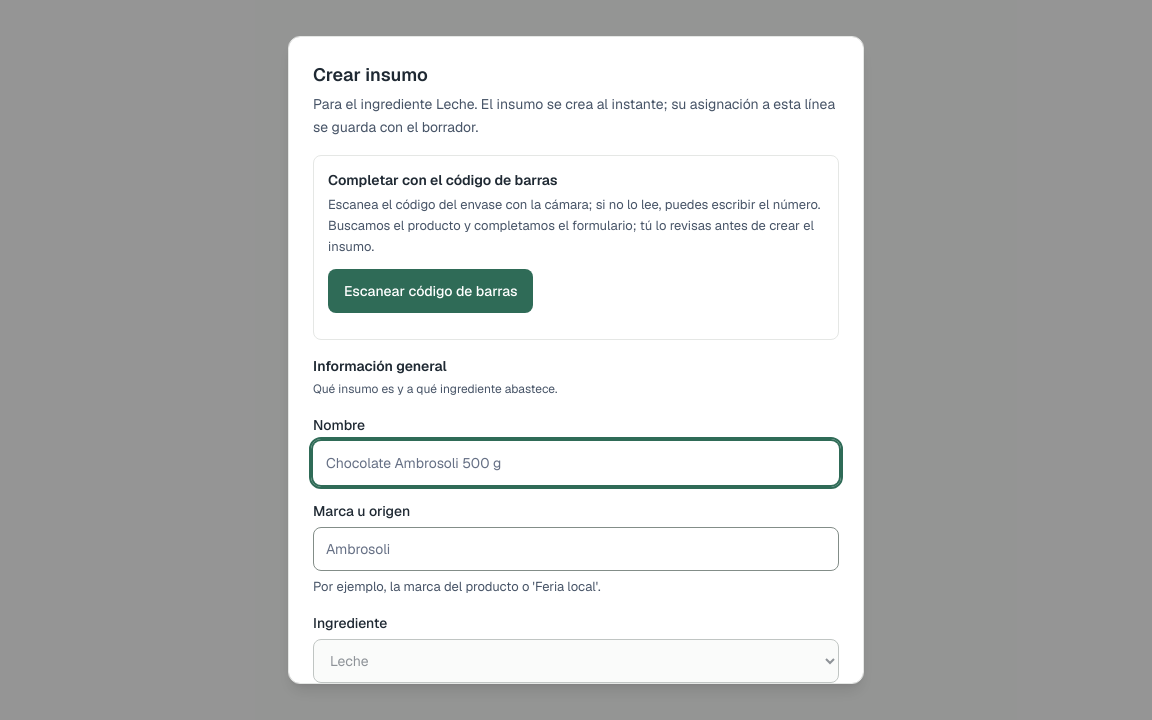
Bloque de búsqueda en el diálogo › no encontrado: conserva lo escrito, agrega el código y avisa
Type "Lo que yo escribí" into the field labelled "Nombre".
click(576, 463); type("Lo que yo escribí")  # box [313, 441, 839, 485]
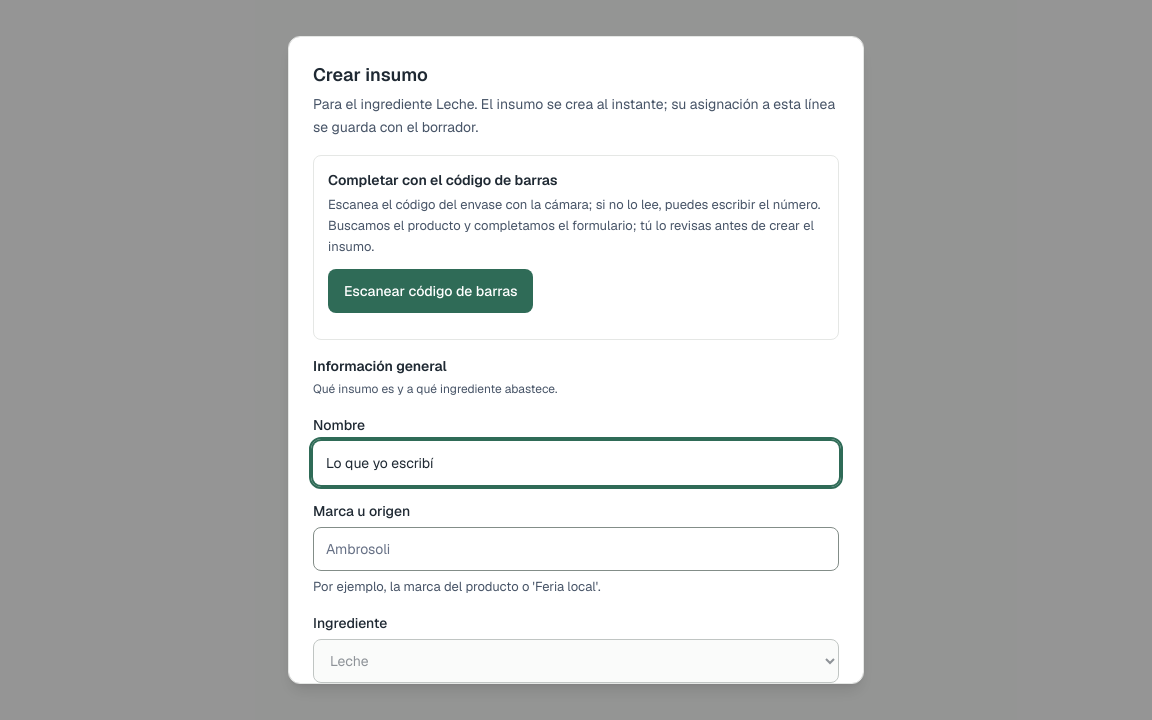
Click the button "Escanear código de barras".
click(431, 291)  # box [328, 269, 534, 313]
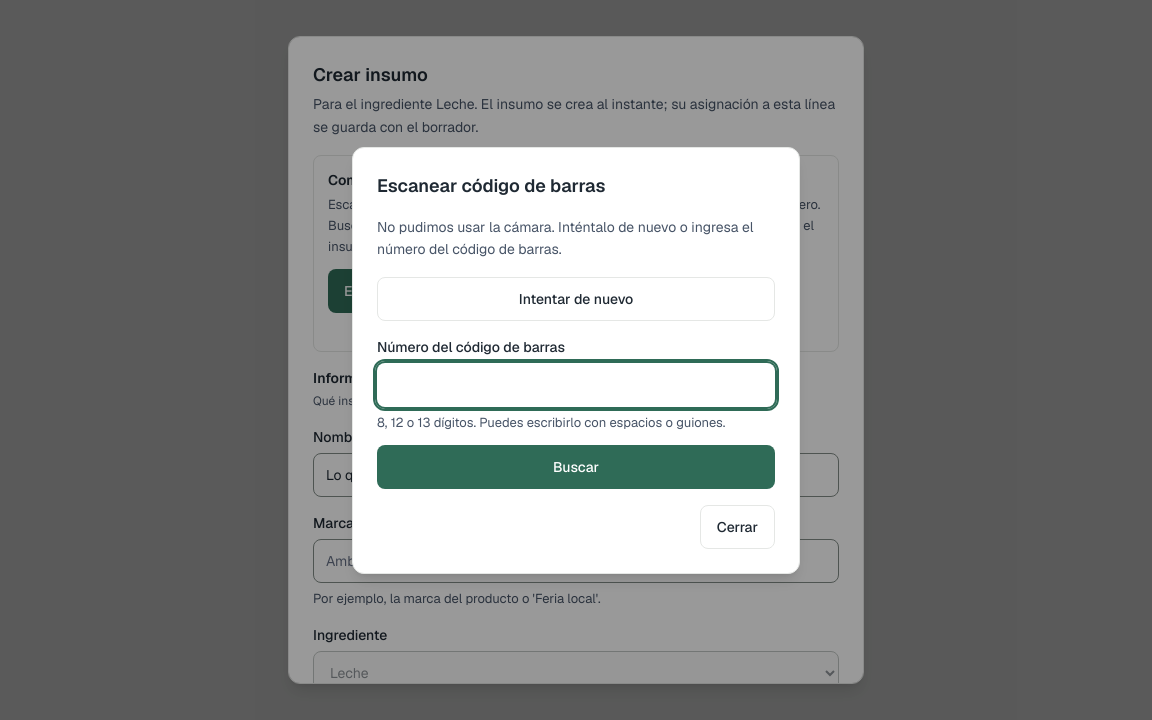
Type "7802910000971" into the field labelled "Número del código de barras".
click(576, 385); type("7802910000971")  # box [377, 363, 775, 407]
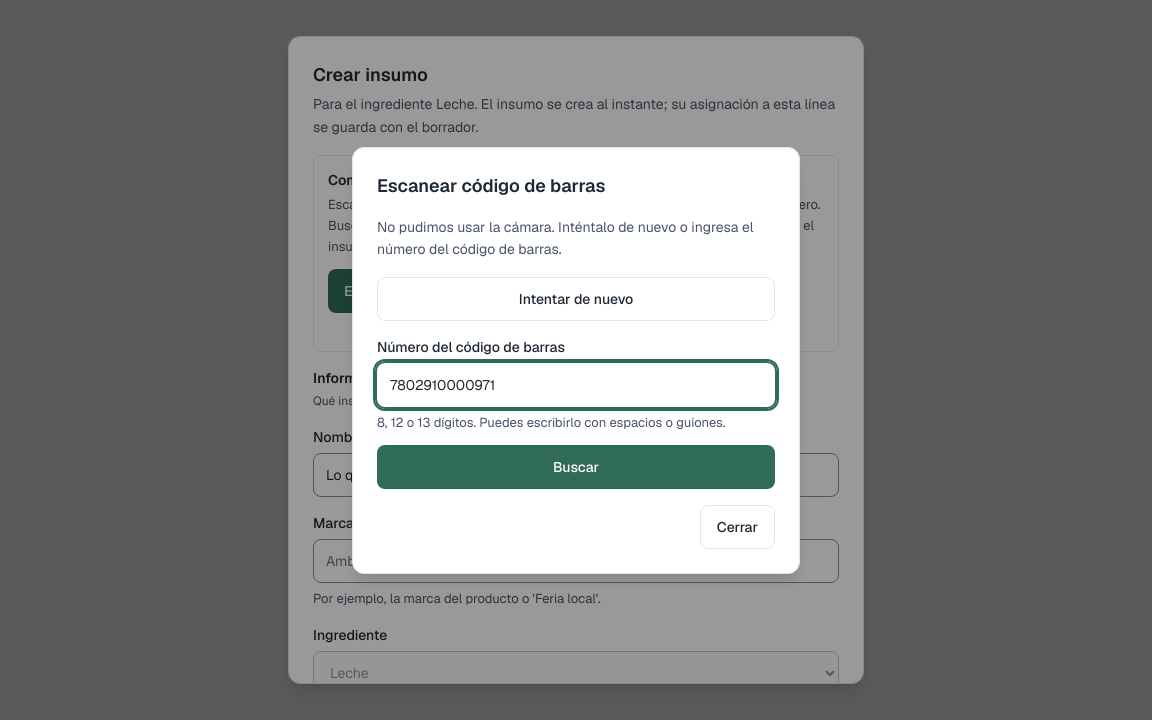
Click the button "Buscar".
click(576, 466)  # box [377, 444, 775, 488]
(page scrolled)
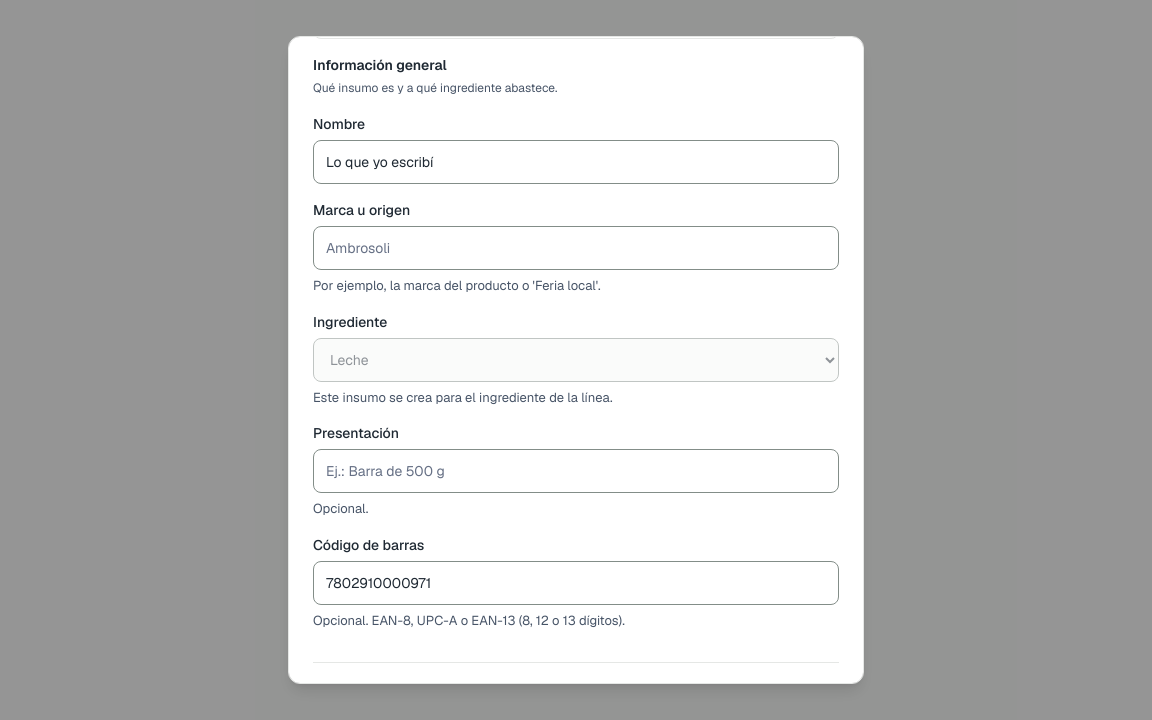
Expected: the field labelled "Nombre" holds "Lo que yo escribí", [313, 140, 839, 184]
Expected: the field labelled "Código de barras" holds "7802910000971", [313, 561, 839, 605]
Expected: the dropdown labelled "Ingrediente" shows "Leche", [313, 338, 839, 382]
